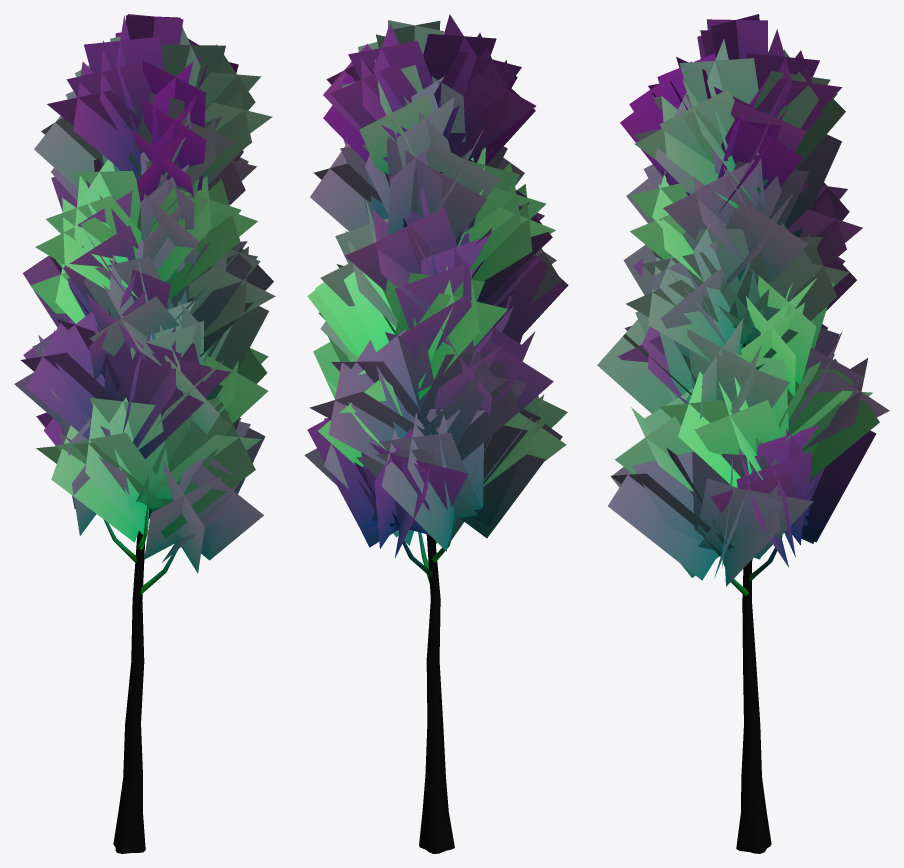
The model's file is Tree_9_6.fbx.
The picture shows the model from 3 angles, left to right: view 1: azimuth 30°, elevation 25°; view 2: azimuth 150°, elevation 25°; view 3: azimuth 270°, elevation 25°; orthographic projection.
Parts seen in each view (by area): view 1: _6; view 2: _6; view 3: _6.
Part boxes in pixels (x1,y1,x2,y2): _6: (14,14,275,853); _6: (304,14,568,853); _6: (597,14,889,853).
Size of the model in its own units: 647 by 2102 by 675.
